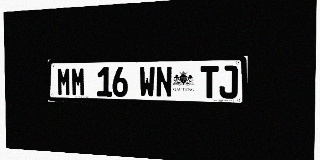1: (97, 67, 112, 97)
6: (112, 67, 128, 97)
J: (219, 65, 238, 99)
M: (71, 67, 86, 96), (57, 67, 71, 96)
N: (156, 66, 172, 98)
T: (200, 66, 218, 98)
W: (139, 66, 155, 97)
